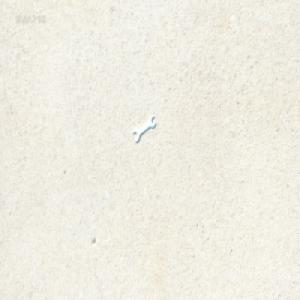Wrench: (133, 114, 155, 142)
